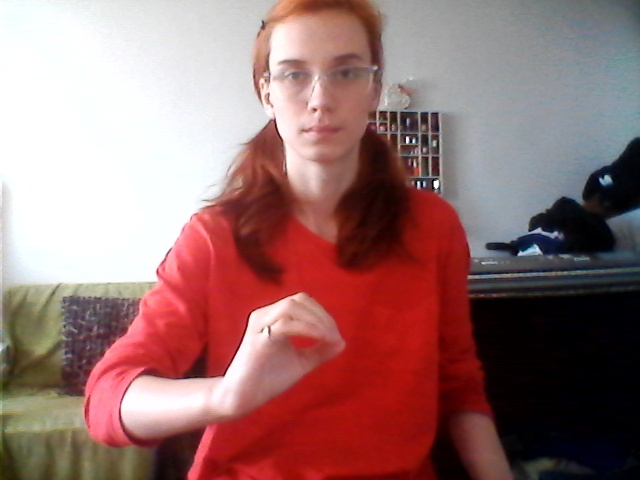o: (227, 283, 352, 417)
